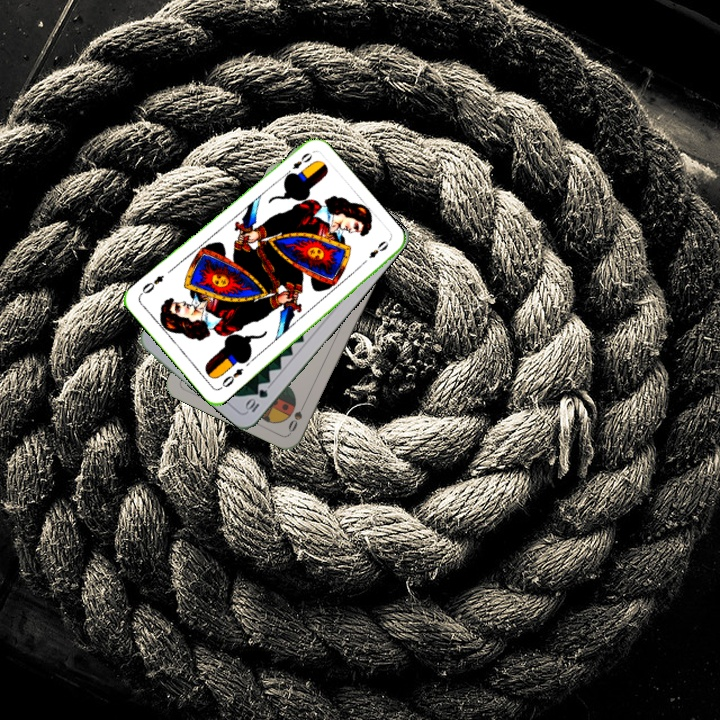EO: (281, 148, 315, 179), (216, 364, 246, 392)
G10: (241, 385, 271, 415)
SO: (284, 397, 309, 435)
